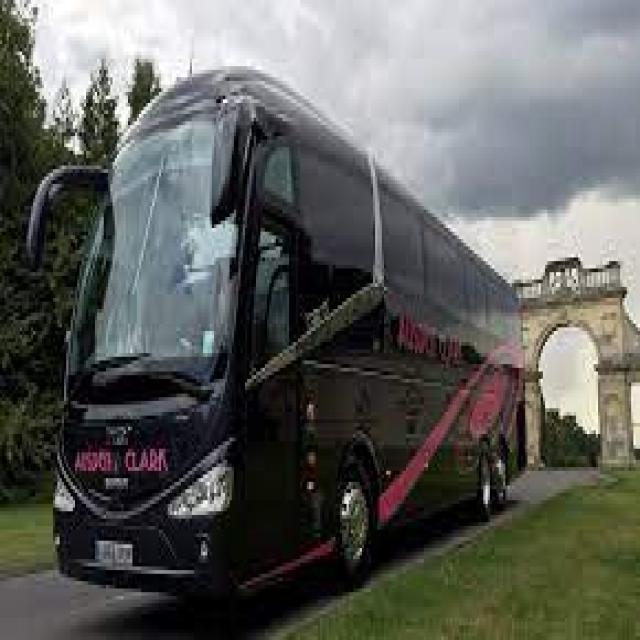Bus: (40, 44, 551, 586)
